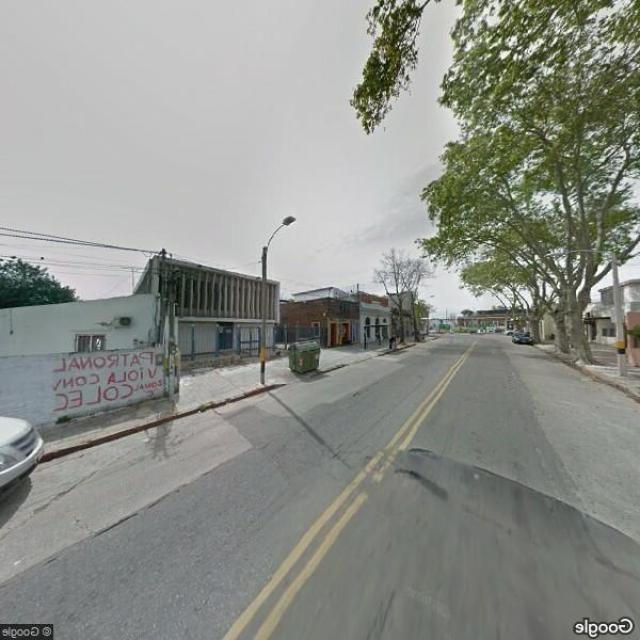garbage container: (280, 335, 326, 382)
